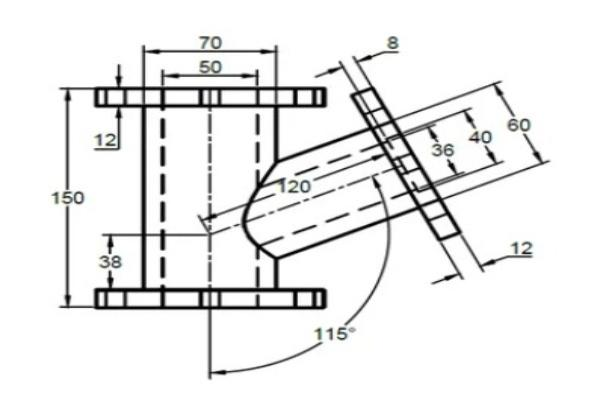dimensions: (275, 174, 314, 198), (47, 185, 86, 206), (510, 234, 539, 259), (426, 140, 460, 161), (194, 57, 228, 76), (503, 114, 535, 134), (196, 34, 228, 53), (94, 252, 126, 270), (384, 28, 406, 54), (467, 126, 496, 145), (92, 129, 117, 149)
